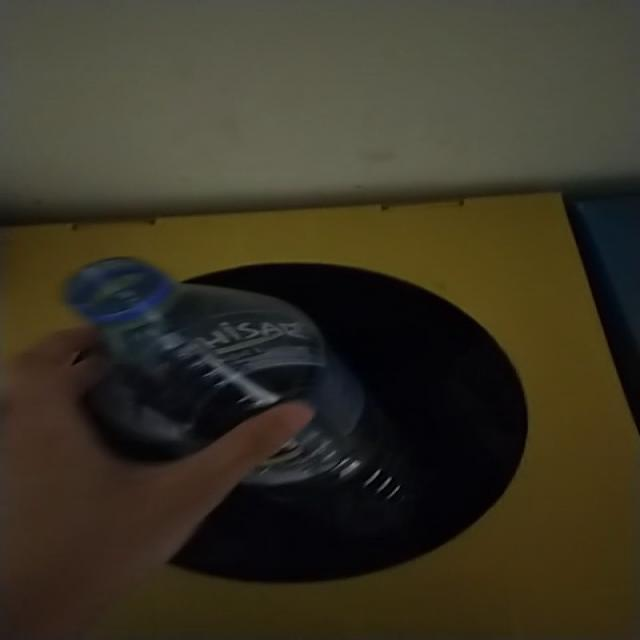Plastic: (64, 258, 408, 504)
